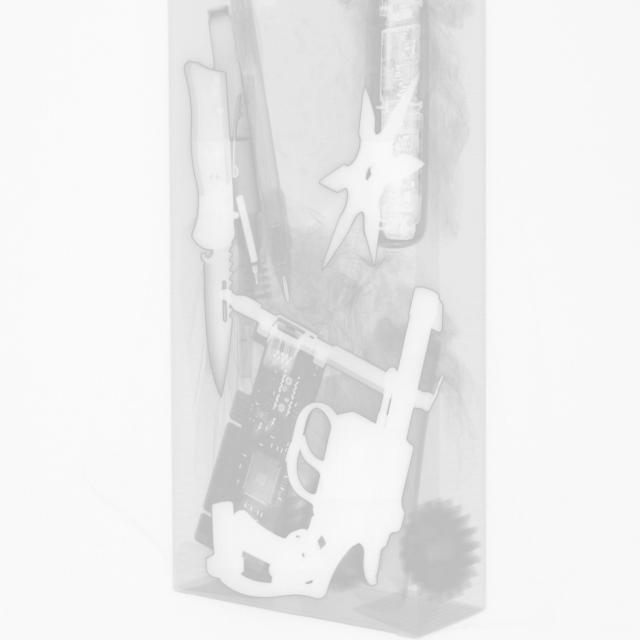knife: (176, 59, 244, 391)
pistol: (208, 286, 443, 601)
